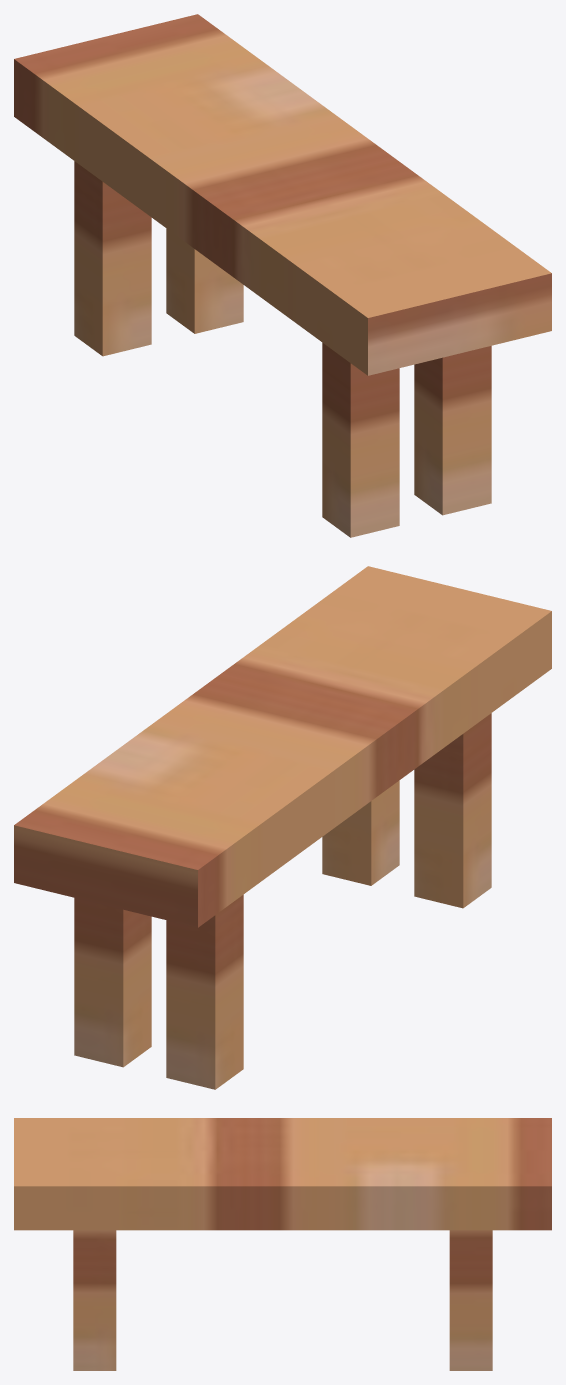
File: Mesa2.fbx
3 renders of one model, top to bottom at view 1: azimuth 30°, elevation 25°; view 2: azimuth 150°, elevation 25°; view 3: azimuth 270°, elevation 25°, orthographic. The views are drawn at different scales.
Parts seen in each view (by area): view 1: MesaNormal; view 2: MesaNormal; view 3: MesaNormal.
Part boxes in pixels (box(x1,y1,x2,y2)): MesaNormal: box(14, 14, 551, 537); MesaNormal: box(14, 566, 551, 1089); MesaNormal: box(14, 1118, 551, 1370).
Bounding box in the file's own units: 600 × 790 × 2000.
